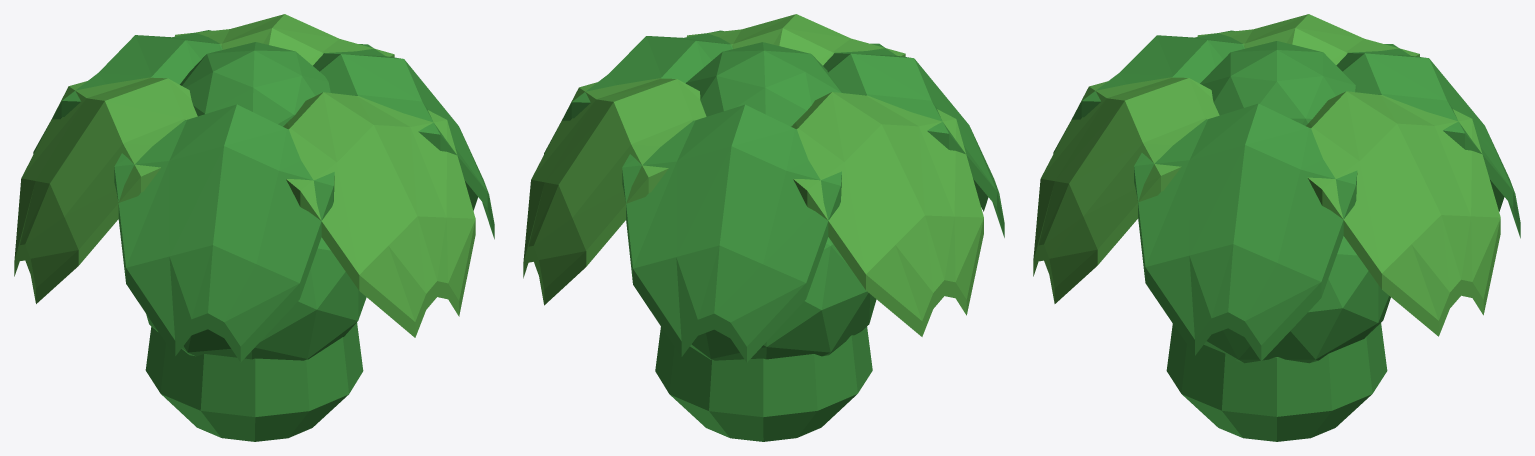
The model's file is PalmFanLeaves.obj.
3 renders of one model, left to right at view 1: azimuth 30°, elevation 25°; view 2: azimuth 150°, elevation 25°; view 3: azimuth 270°, elevation 25°, orthographic.
Visible parts, largest first — view 1: PalmFanLeaves_PalmGreen, PalmFanLeaves_PalmFold; view 2: PalmFanLeaves_PalmGreen, PalmFanLeaves_PalmFold; view 3: PalmFanLeaves_PalmGreen, PalmFanLeaves_PalmFold.
Part boxes in pixels (bbox=[...]): PalmFanLeaves_PalmGreen: bbox=[33, 30, 494, 441]; PalmFanLeaves_PalmFold: bbox=[14, 14, 475, 337]; PalmFanLeaves_PalmGreen: bbox=[544, 30, 1004, 441]; PalmFanLeaves_PalmFold: bbox=[523, 14, 983, 336]; PalmFanLeaves_PalmGreen: bbox=[1053, 30, 1520, 441]; PalmFanLeaves_PalmFold: bbox=[1033, 14, 1500, 336].
Size of the model in its own units: 3.4 by 2.8 by 3.4.
